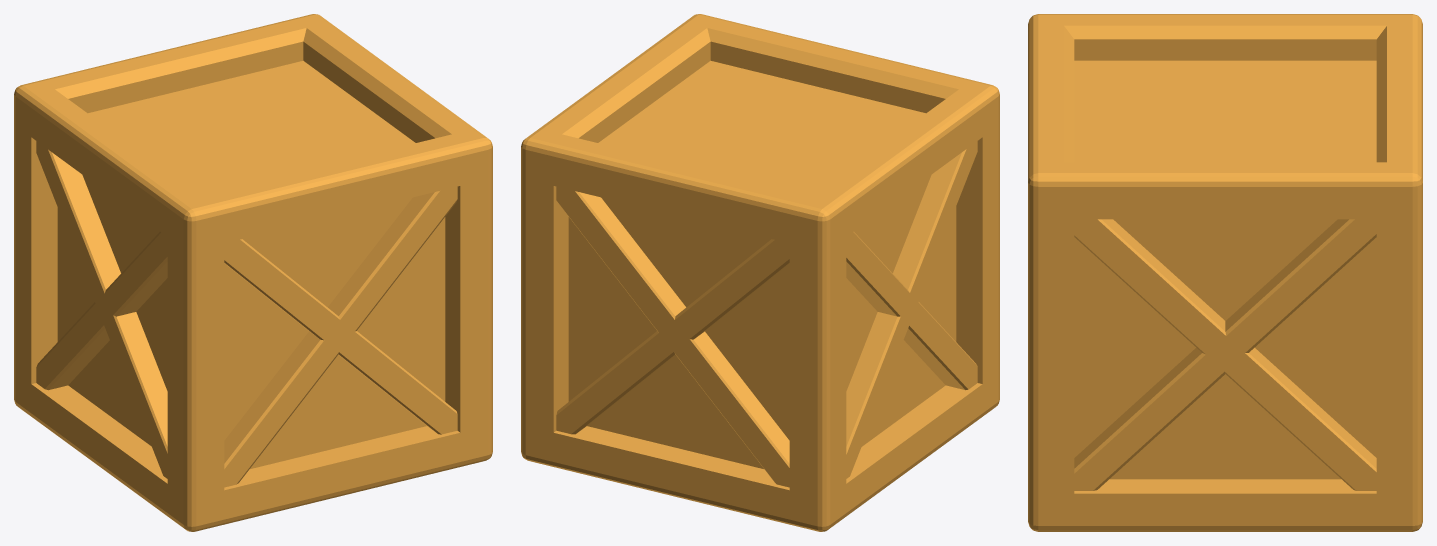
File: Crate.fbx
3 renders of one model, left to right at view 1: azimuth 30°, elevation 25°; view 2: azimuth 150°, elevation 25°; view 3: azimuth 270°, elevation 25°, orthographic. The views are drawn at different scales.
Parts seen in each view (by area): view 1: Crate; view 2: Crate; view 3: Crate.
Boxes of the visible parts, bbox=[...] form: Crate: bbox=[14, 14, 492, 531]; Crate: bbox=[521, 14, 999, 531]; Crate: bbox=[1028, 14, 1422, 531].
Bounding box in the file's own units: 1 × 1 × 1.
